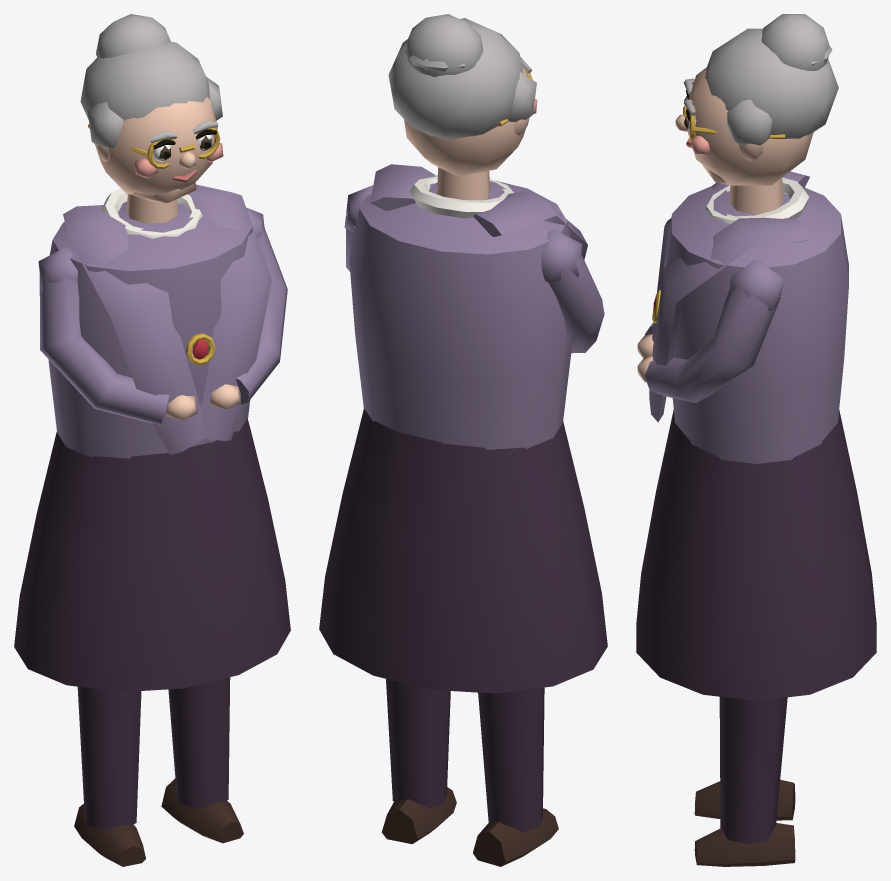
Rendered from char_grandma.glb.
3 views of the same model, side by side, from view 1: azimuth 30°, elevation 25°; view 2: azimuth 150°, elevation 25°; view 3: azimuth 270°, elevation 25° (orthographic). The views are drawn at different scales.
Parts seen in each view (by area): view 1: char_grandma; view 2: char_grandma; view 3: char_grandma.
Part boxes in pixels (x1,y1,x2,y2): char_grandma: (14,14,290,866); char_grandma: (319,14,607,866); char_grandma: (636,14,876,866).
Bounding box in the file's own units: 0.5145 × 1.58 × 0.4204.
